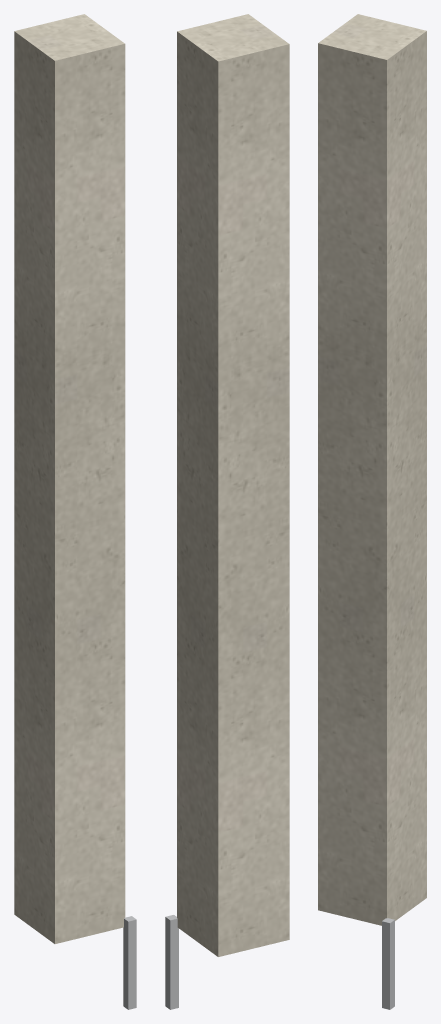
The model's file is t_corner.glb.
The picture shows the model from 3 angles, left to right: view 1: azimuth 30°, elevation 25°; view 2: azimuth 210°, elevation 25°; view 3: azimuth 330°, elevation 25°; orthographic projection. The views are drawn at different scales.
Parts seen in each view (by area): view 1: t_corner_render, t_corner_band; view 2: t_corner_render, t_corner_band; view 3: t_corner_render, t_corner_band.
Boxes of the visible parts, bbox=[...] form: t_corner_render: bbox=[14, 14, 125, 943]; t_corner_band: bbox=[123, 916, 136, 1009]; t_corner_render: bbox=[177, 14, 289, 956]; t_corner_band: bbox=[165, 915, 178, 1009]; t_corner_render: bbox=[318, 14, 426, 925]; t_corner_band: bbox=[382, 918, 394, 1009].
Size of the model in its own units: 0.276 by 3.27 by 0.276.
Materials: 2 (1 with a texture image).
